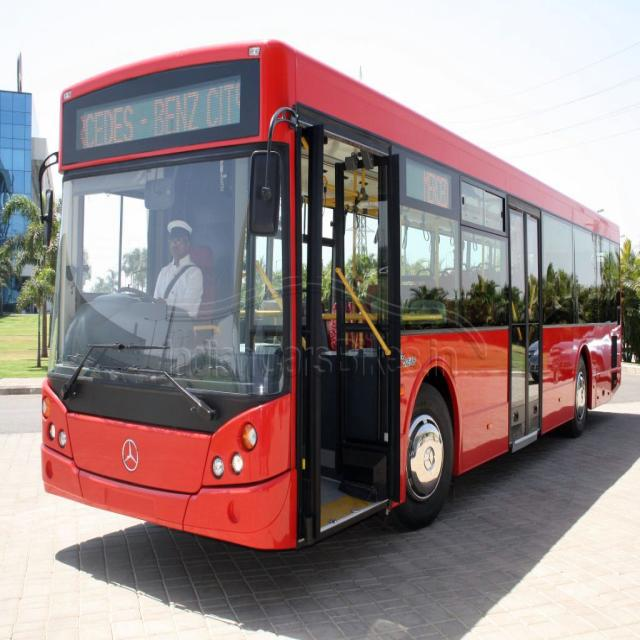bus: (40, 41, 621, 548)
